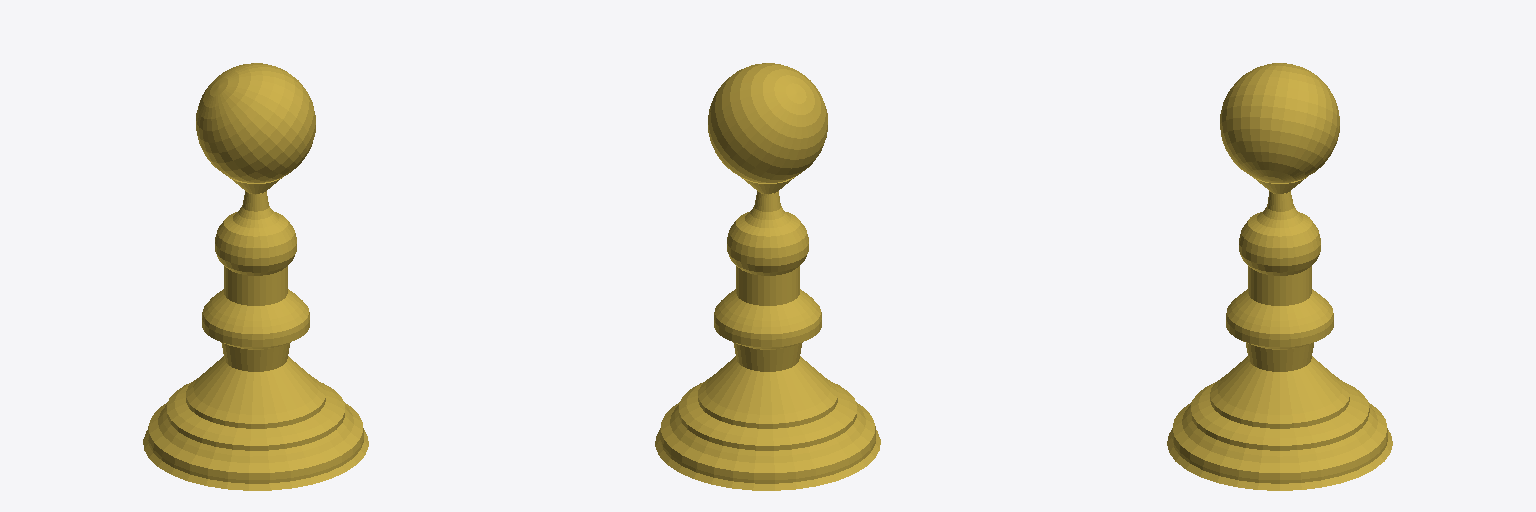
File: PAWN.obj
3 renders of one model, left to right at view 1: azimuth 30°, elevation 25°; view 2: azimuth 150°, elevation 25°; view 3: azimuth 270°, elevation 25°, orthographic.
Visible parts, largest first — view 1: Cylinder, Sphere; view 2: Cylinder, Sphere; view 3: Cylinder, Sphere.
Boxes of the visible parts, box(x1,y1,x2,y2) form: Cylinder: box(143, 177, 368, 490); Sphere: box(196, 63, 315, 182); Cylinder: box(655, 177, 880, 490); Sphere: box(708, 63, 827, 182); Cylinder: box(1167, 177, 1392, 490); Sphere: box(1220, 63, 1339, 182).
Size of the model in its own units: 0.9678 by 1.77 by 0.9678.